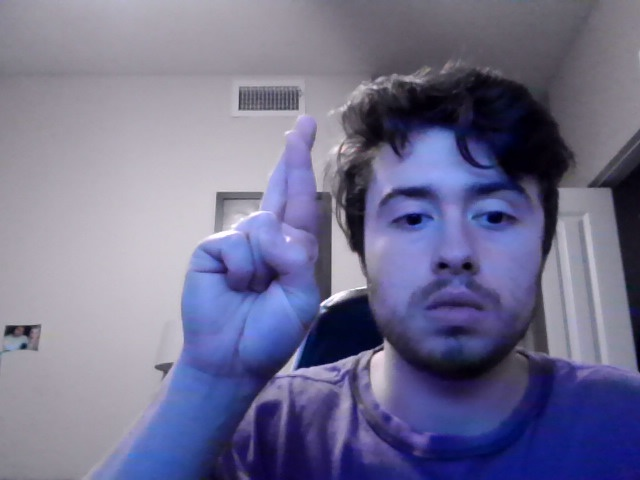r: (179, 113, 322, 395)
